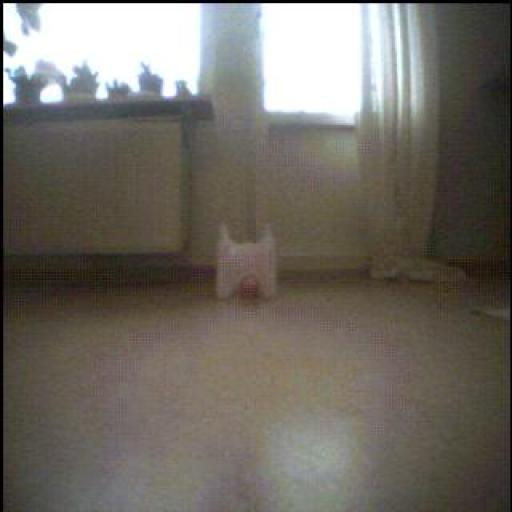Basket: (239, 272, 265, 305)
